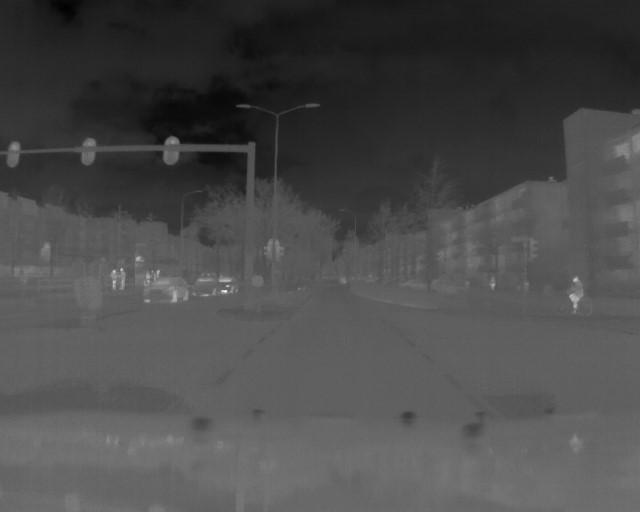car: (141, 277, 191, 305), (219, 275, 241, 297)
person: (567, 275, 586, 316), (118, 265, 126, 297), (111, 267, 118, 294)
